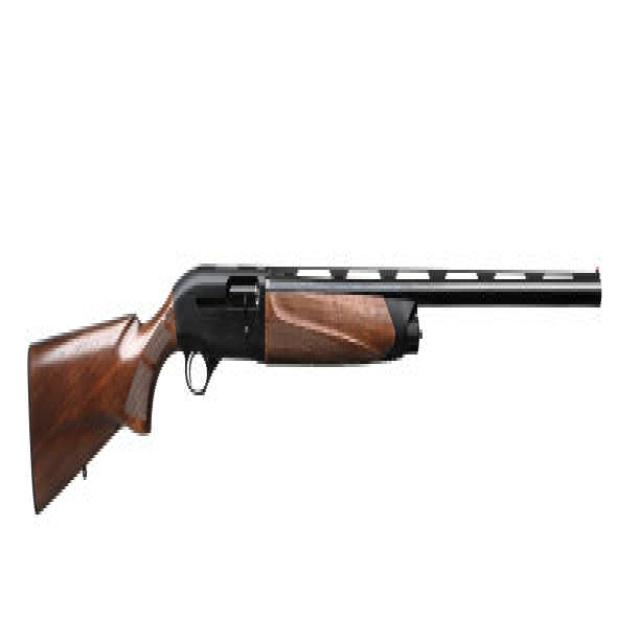rifle: (20, 252, 603, 534)
